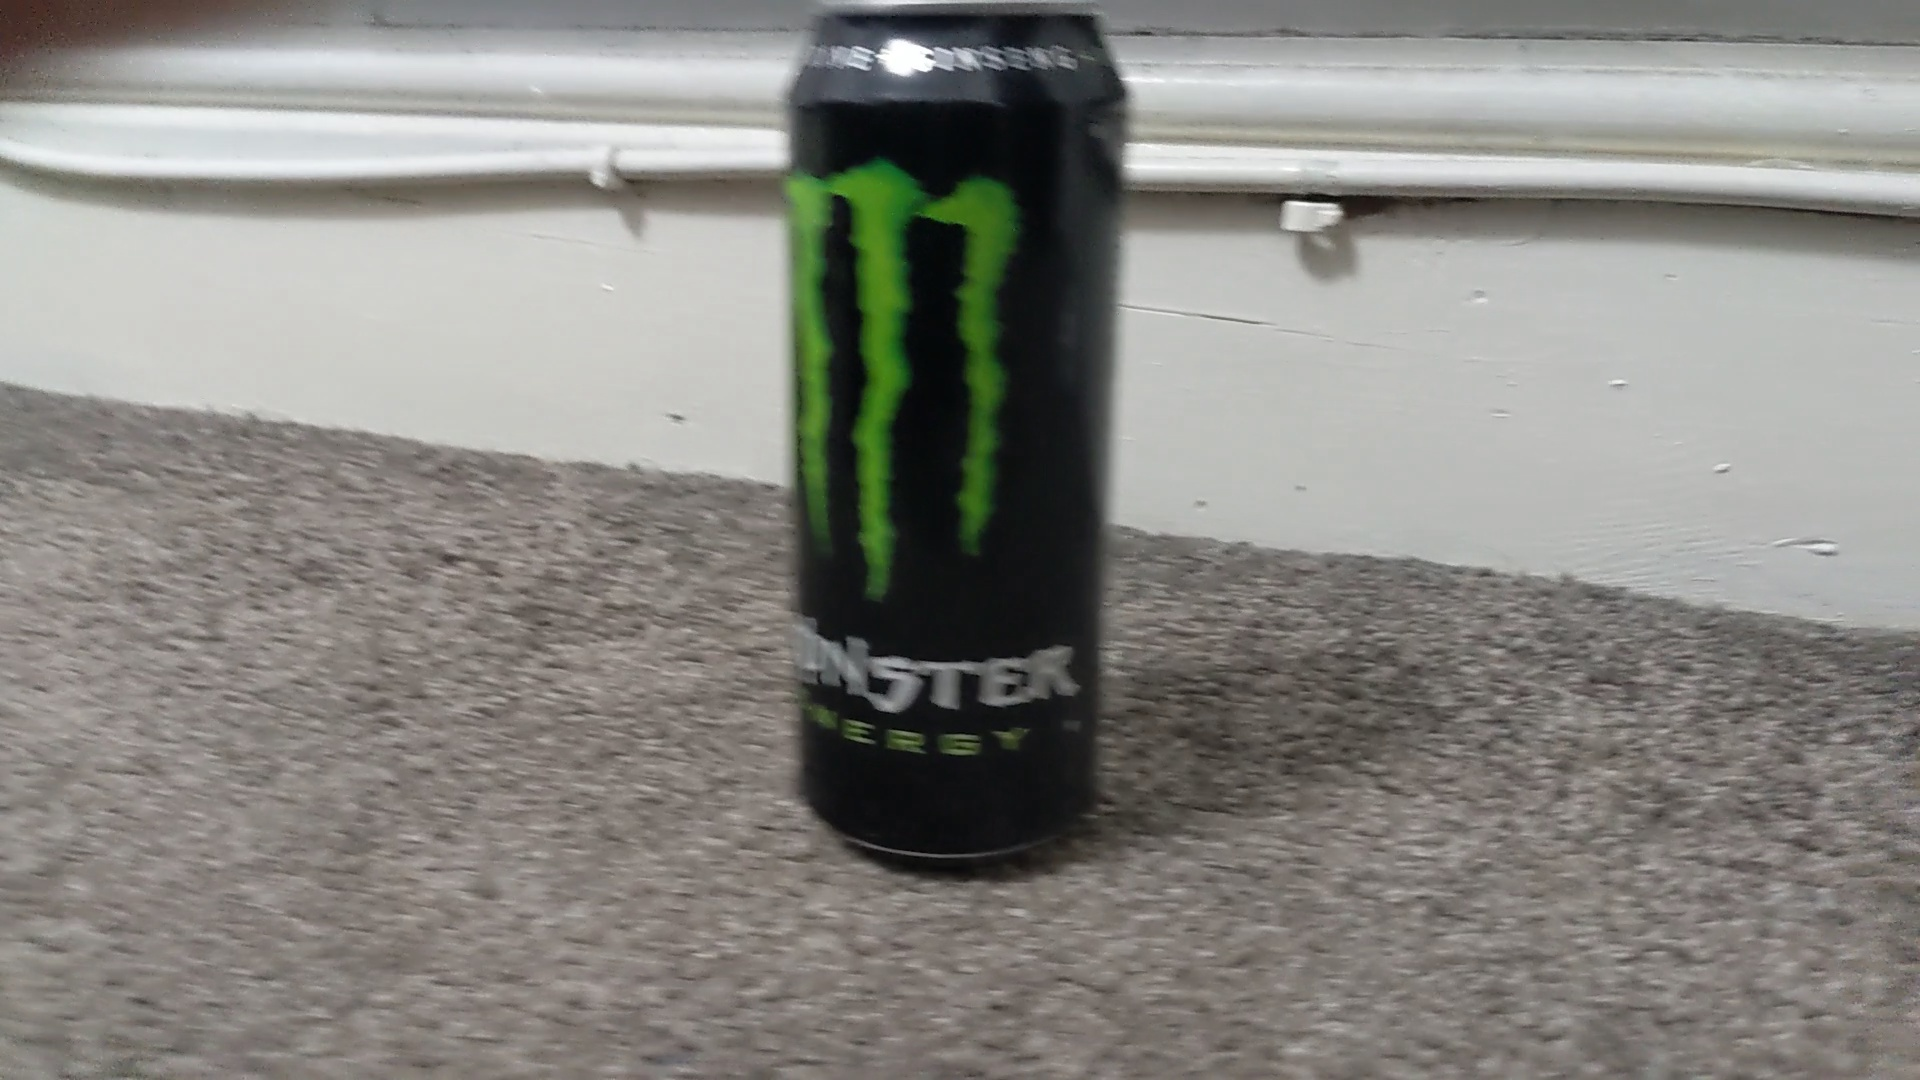monster-original: (782, 1, 1124, 862)
